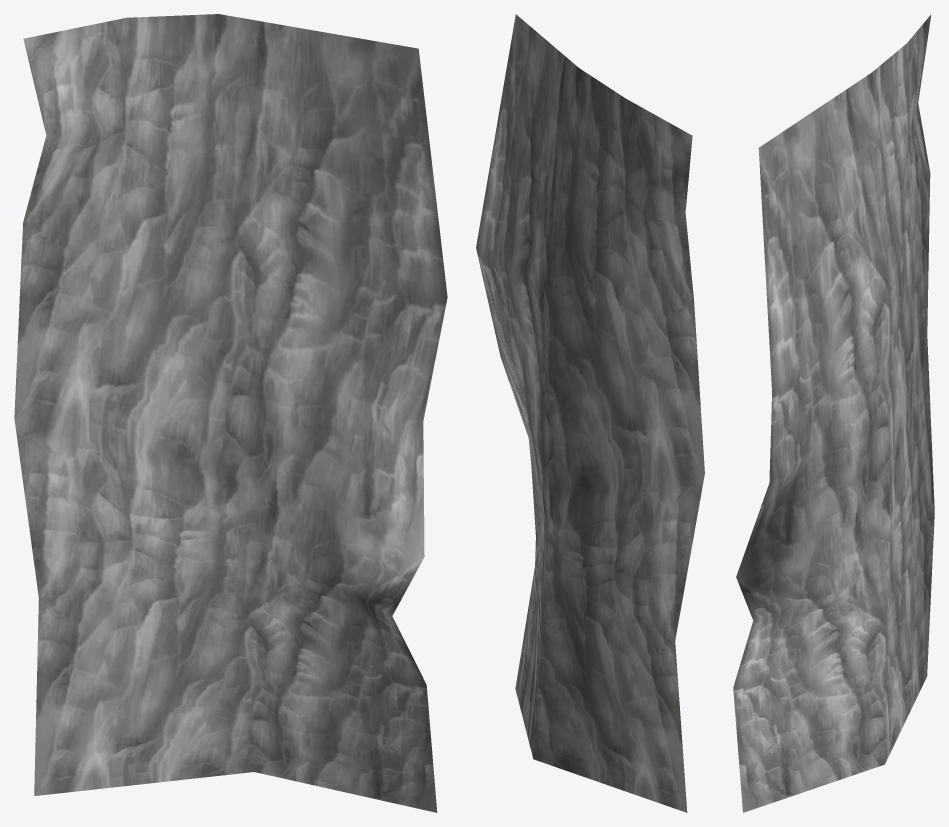
The model's file is SWORDLIGHT20_PS-AREA03_192.fbx.
3 renders of one model, left to right at view 1: azimuth 30°, elevation 25°; view 2: azimuth 150°, elevation 25°; view 3: azimuth 270°, elevation 25°, orthographic. The views are drawn at different scales.
Visible parts, largest first — view 1: SWORDLIGHT20_PS-AREA03_192; view 2: SWORDLIGHT20_PS-AREA03_192; view 3: SWORDLIGHT20_PS-AREA03_192.
Boxes of the visible parts, box(x1,y1,x2,y2) form: SWORDLIGHT20_PS-AREA03_192: box(14, 14, 447, 812); SWORDLIGHT20_PS-AREA03_192: box(476, 14, 704, 812); SWORDLIGHT20_PS-AREA03_192: box(733, 14, 934, 812).
Size of the model in its own units: 70374 by 152518 by 41057.
1 material, 1 textured.
